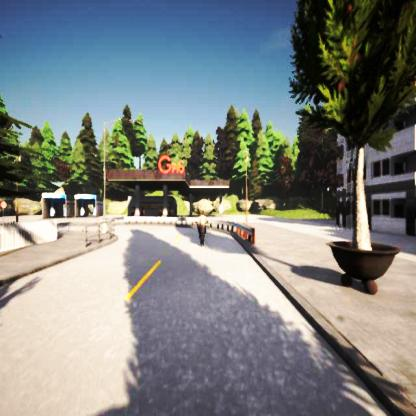motobike: (196, 214, 209, 247)
